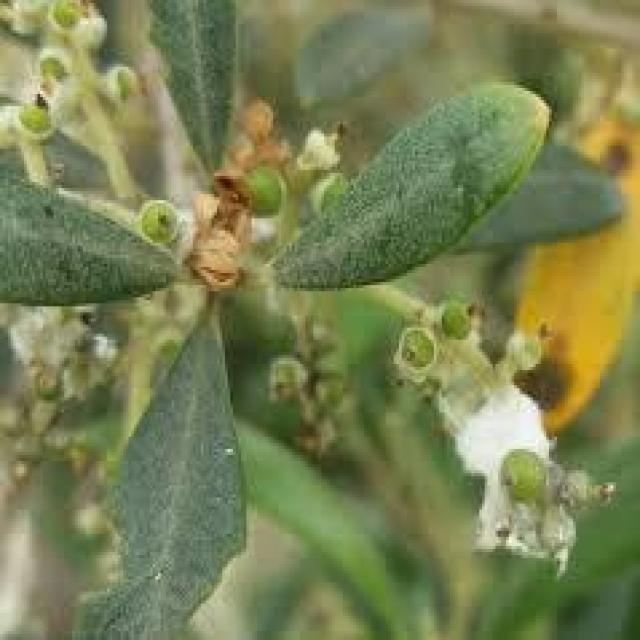Psyllid: (394, 294, 614, 543)
